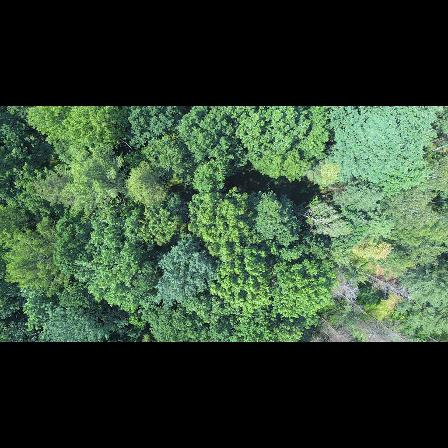Dead: (360, 269, 407, 296), (289, 203, 332, 231), (361, 312, 404, 340), (336, 292, 374, 318), (315, 314, 346, 341), (331, 276, 358, 294)
